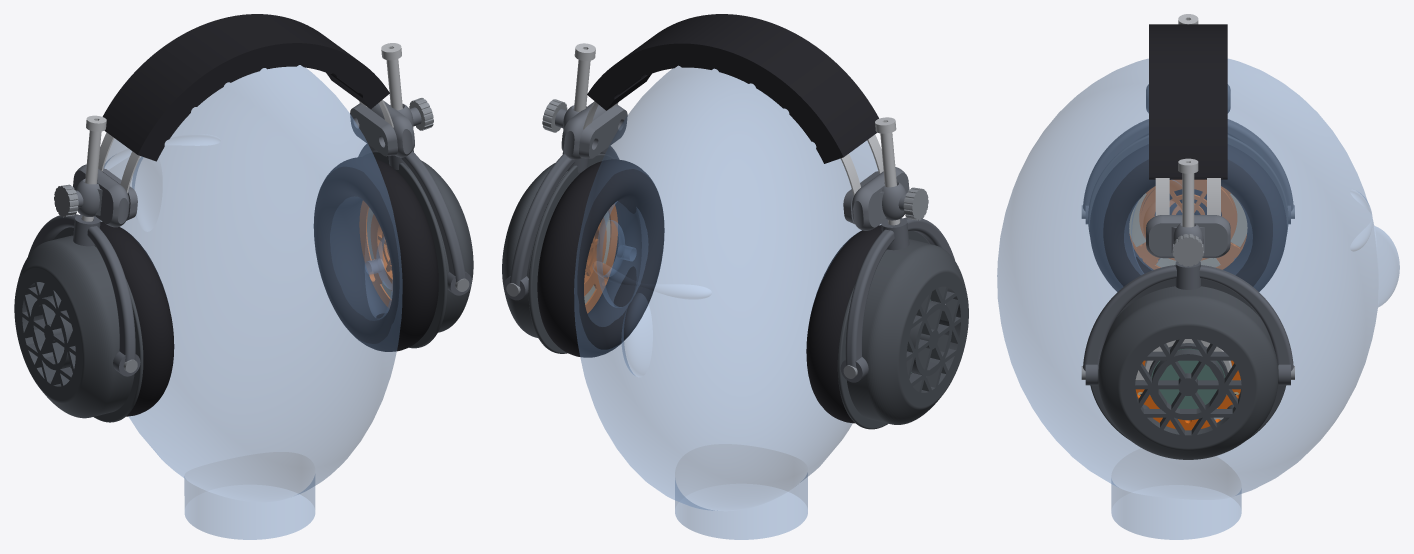
File: daily-driver.glb
The picture shows the model from 3 angles, left to right: view 1: azimuth 30°, elevation 25°; view 2: azimuth 150°, elevation 25°; view 3: azimuth 270°, elevation 25°; orthographic projection. The views are drawn at different scales.
Parts seen in each view (by area): view 1: head_ref, headband_pad, cup_L, earpad_R, earpad_L, cup_R, yoke_L, yoke_R, slider_L, baffle_R, headband_clamp_R, slider_R (+4 smaller); view 2: head_ref, headband_pad, earpad_R, cup_L, earpad_L, cup_R, yoke_L, yoke_R, slider_L, baffle_R, headband_clamp_R, slider_R (+4 smaller); view 3: head_ref, cup_R, headband_pad, earpad_L, yoke_R, slider_R, yoke_L, baffle_L, cup_L, damping_R, paper_L, bow_ref (+3 smaller).
Part boxes in pixels (<box>): head_ref: <box>101,65,402,539</box>; headband_pad: <box>102,14,389,161</box>; cup_L: <box>14,227,143,422</box>; earpad_R: <box>313,157,438,351</box>; earpad_L: <box>100,221,174,416</box>; cup_R: <box>362,151,473,348</box>; yoke_L: <box>28,214,140,376</box>; yoke_R: <box>358,144,471,295</box>; slider_L: <box>73,164,129,227</box>; baffle_R: <box>359,200,392,308</box>; headband_clamp_R: <box>350,103,397,156</box>; slider_R: <box>368,101,421,157</box>; head_ref: <box>574,65,881,539</box>; headband_pad: <box>587,14,878,163</box>; earpad_R: <box>537,159,664,357</box>; cup_L: <box>837,231,968,429</box>; earpad_L: <box>806,225,881,423</box>; cup_R: <box>502,153,614,353</box>; yoke_L: <box>840,217,954,382</box>; yoke_R: <box>503,146,618,300</box>; slider_L: <box>852,167,909,230</box>; baffle_R: <box>584,204,617,313</box>; headband_clamp_R: <box>579,105,627,158</box>; slider_R: <box>555,102,609,159</box>; head_ref: <box>997,58,1399,539</box>; cup_R: <box>1090,278,1286,459</box>; headband_pad: <box>1149,24,1227,179</box>; earpad_L: <box>1089,144,1286,291</box>; yoke_R: <box>1083,261,1293,385</box>; slider_R: <box>1146,215,1230,258</box>; yoke_L: <box>1083,119,1293,224</box>; baffle_L: <box>1129,179,1246,269</box>; cup_L: <box>1088,135,1288,260</box>; damping_R: <box>1151,348,1225,408</box>; paper_L: <box>1129,193,1247,267</box>; bow_ref: <box>1155,178,1220,215</box>.
Size of the model in its own units: 227 by 264 by 204.
